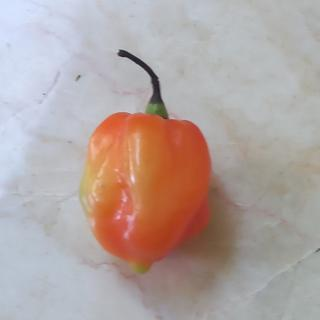Grade-A: (79, 108, 217, 282)
